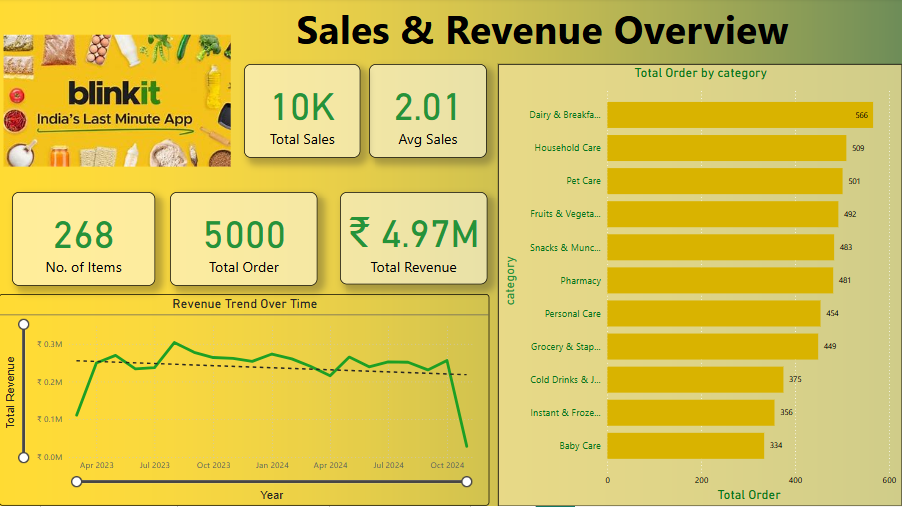

This screenshot's page, from the dashboard's own definition file:
{"tool":"powerbi","page":{"name":"Overview","canvas":[1280,720],"ordinal":0},"visuals":[{"type":"card","fields":{"Values":["Measure Table.Avg Sales"]},"box":[525,94,166.9,132.9],"z":0},{"type":"card","fields":{"Values":["Measure Table.Total Revenue"]},"box":[482.8,275.4,209,131.2],"z":1000},{"type":"card","fields":{"Values":["Measure Table.Total Sales"]},"box":[346.7,94,165.3,132.9],"z":2000},{"type":"card","fields":{"Values":["Measure Table.Total Order"]},"box":[243,275.4,209,132.9],"z":3000},{"type":"card","fields":{"Values":["Measure Table.No. of Items"]},"box":[17.8,275.4,202.5,132.9],"z":4000},{"type":"textbox","box":[361.3,0,818.2,92.4],"z":5000},{"type":"lineChart","title":"Revenue Trend Over Time","fields":{"Y":["Measure Table.Total Revenue"],"Category":["orders.Start of Month.Variation.Date Hierarchy.Year","orders.Start of Month.Variation.Date Hierarchy.Quarter","orders.Start of Month.Variation.Date Hierarchy.Month","orders.Start of Month.Variation.Date Hierarchy.Day"]},"box":[0,420,695,300],"z":6000},{"type":"barChart","fields":{"Category":["products.category"],"Y":["Measure Table.Total Order"]},"box":[707.1,92.9,572.9,627.1],"z":7000},{"type":"image","box":[1.7,0,331.7,290],"z":8000}]}

Visuals, with their boxes in screenshot pixels (x1, y1, x2, y2), scaled from the page's 1280x720 canvas onto the 902x507 screenshot:
card - Measure Table.Avg Sales: x1=370 y1=66 x2=488 y2=160
card - Measure Table.Total Revenue: x1=340 y1=194 x2=488 y2=286
card - Measure Table.Total Sales: x1=244 y1=66 x2=361 y2=160
card - Measure Table.Total Order: x1=171 y1=194 x2=319 y2=288
card - Measure Table.No. of Items: x1=13 y1=194 x2=155 y2=288
textbox: x1=255 y1=0 x2=831 y2=65
"Revenue Trend Over Time" lineChart: x1=0 y1=296 x2=490 y2=506
barChart - products.category x Measure Table.Total Order: x1=498 y1=65 x2=901 y2=506
image: x1=1 y1=0 x2=235 y2=204
